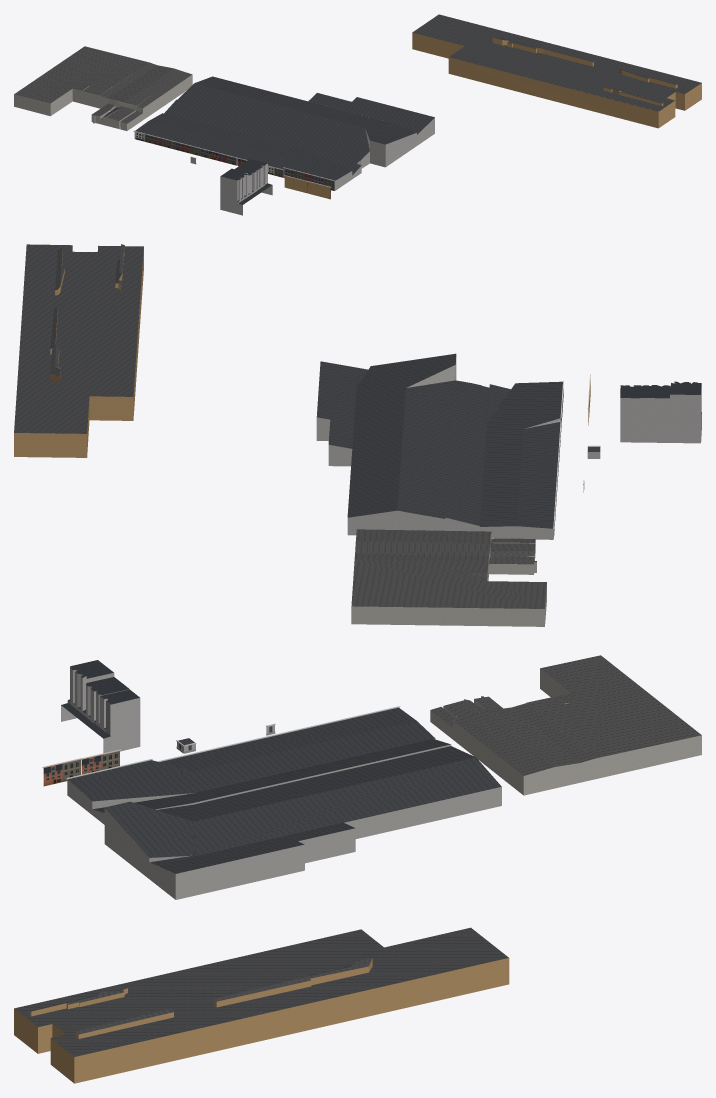
The picture shows the model from 3 angles, top to bottom: view 1: azimuth 30°, elevation 25°; view 2: azimuth 150°, elevation 25°; view 3: azimuth 270°, elevation 25°; orthographic projection. The views are drawn at different scales.
Visible parts, largest first — view 1: bldg_6004581105_roof, bldg_6004321845_roof, bldg_6004581103_roof, bldg_6004321845, bldg_6004581103, bldg_6004581105, bldg_6000076687, bldg_6004581105_facade2, bldg_6000076687_roof, bldg_6004581105_facade0; view 2: bldg_6004581105_roof, bldg_6004321845_roof, bldg_6004581103_roof, bldg_6004581103, bldg_6004581105, bldg_6000076687, bldg_6004321845, bldg_6000076687_roof; view 3: bldg_6004581105_roof, bldg_6004321845_roof, bldg_6004321845, bldg_6004581103_roof, bldg_6004581105, bldg_6004581103, bldg_6000076687, bldg_6000076687_roof, bldg_6004581104_facade1, bldg_6004581104_facade0.
Boxes of the visible parts, box(x1,y1,x2,y2) form: bldg_6004581105_roof: box(135, 76, 434, 180); bldg_6004321845_roof: box(412, 14, 701, 111); bldg_6004581103_roof: box(14, 46, 191, 123); bldg_6004321845: box(412, 32, 701, 128); bldg_6004581103: box(14, 74, 192, 130); bldg_6004581105: box(134, 101, 434, 190); bldg_6000076687: box(220, 163, 272, 215); bldg_6004581105_facade2: box(133, 130, 236, 165); bldg_6000076687_roof: box(221, 159, 271, 204); bldg_6004581105_facade0: box(283, 167, 335, 190); bldg_6004581105_roof: box(316, 353, 562, 528); bldg_6004321845_roof: box(14, 244, 143, 433); bldg_6004581103_roof: box(351, 529, 546, 608); bldg_6004581103: box(351, 529, 546, 626); bldg_6004581105: box(316, 358, 562, 539); bldg_6000076687: box(620, 382, 701, 443); bldg_6004321845: box(14, 247, 143, 457); bldg_6000076687_roof: box(620, 381, 701, 414); bldg_6004581105_roof: box(68, 707, 501, 873); bldg_6004321845_roof: box(14, 927, 508, 1056); bldg_6004321845: box(14, 958, 509, 1083); bldg_6004581103_roof: box(430, 655, 701, 775); bldg_6004581105: box(67, 738, 501, 899); bldg_6004581103: box(430, 668, 701, 795); bldg_6000076687: box(61, 666, 140, 753); bldg_6000076687_roof: box(61, 660, 139, 738); bldg_6004581104_facade1: box(42, 758, 81, 786); bldg_6004581104_facade0: box(81, 749, 120, 774).
Size of the model in its own units: 351 by 21.48 by 250.
Materials: 17 (10 with a texture image).
